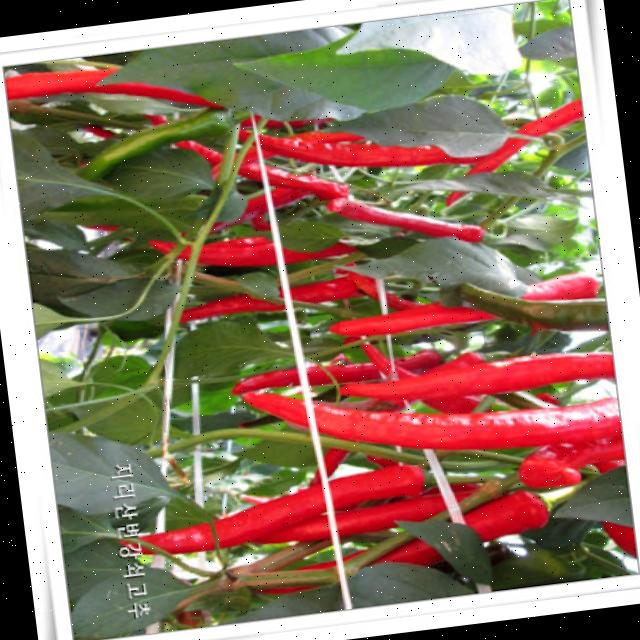chili: (329, 271, 600, 337), (314, 398, 618, 450), (340, 353, 613, 400), (140, 486, 323, 554), (5, 67, 222, 107), (259, 134, 481, 166), (327, 197, 482, 242), (336, 493, 444, 537), (328, 465, 424, 509), (199, 236, 274, 267), (467, 138, 528, 175), (517, 100, 581, 135), (242, 392, 306, 424), (289, 276, 361, 303), (254, 516, 326, 542), (283, 242, 356, 263), (150, 240, 173, 253), (447, 192, 462, 205)
